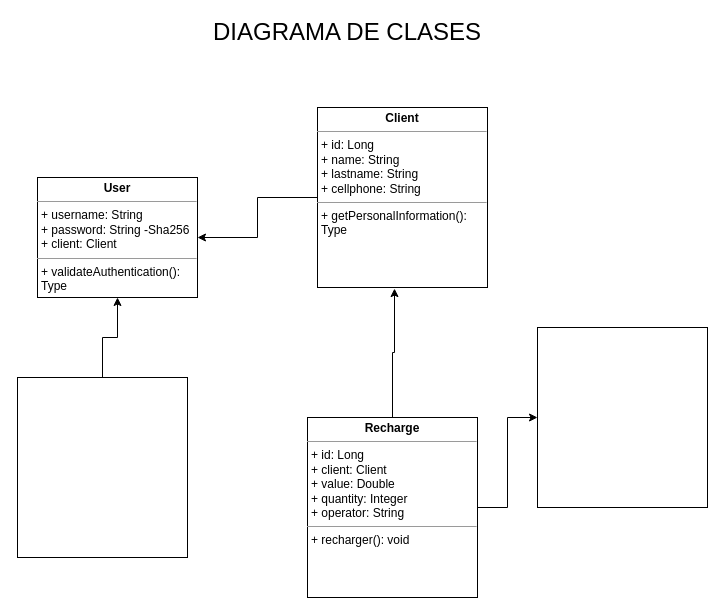
The diagram is 725 pixels wide and 615 high, and some of its shapes have lost their labels. The box of each missing label's shape, as (x1, y1, x2, y2) in pixels:
Operator + id: Long + name: String + getOperatorByName(): List<Operator>: (536, 326, 708, 508)
Rol + id: Long + name: String + getPersonalInformation(): Client: (16, 376, 188, 558)
